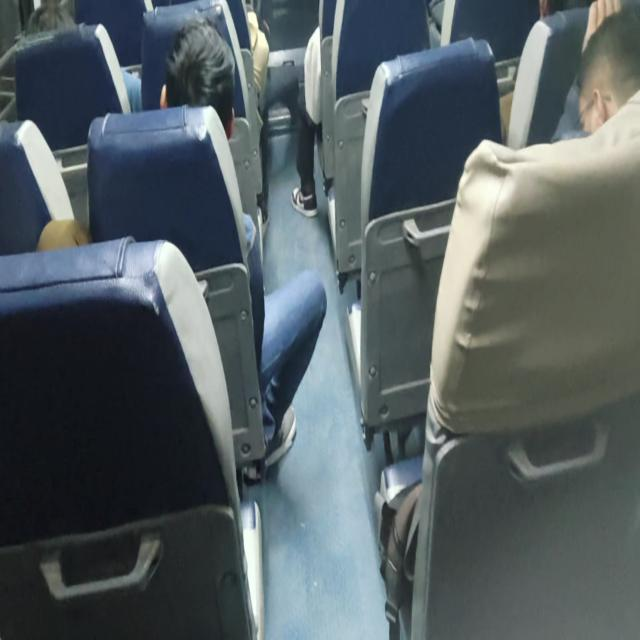person: (158, 16, 328, 473), (550, 0, 639, 142), (159, 16, 236, 140)
